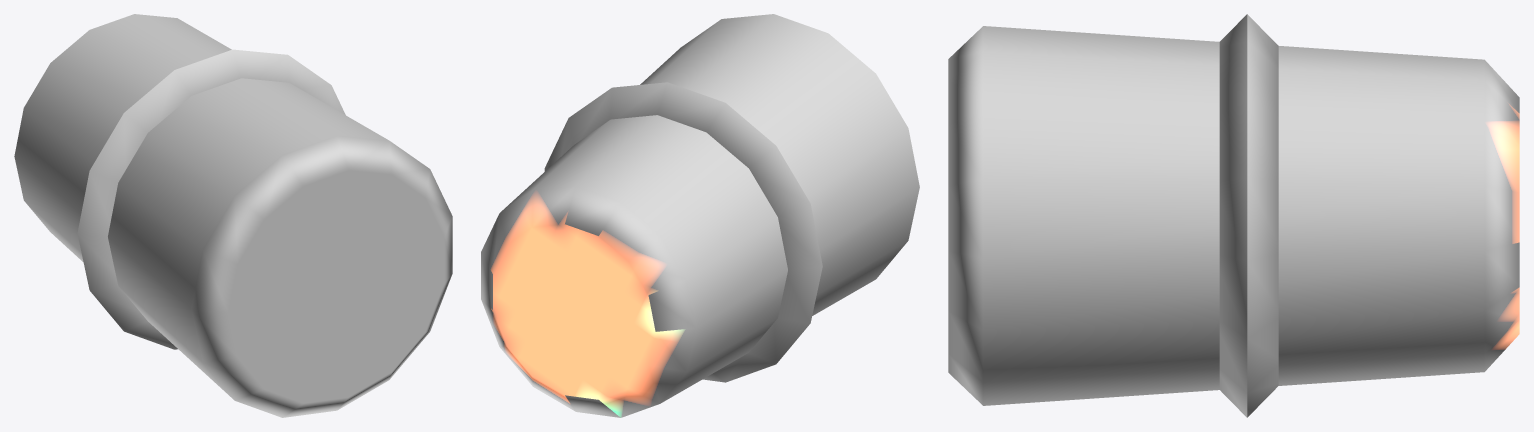
File: Engine_Turbine.fbx
The picture shows the model from 3 angles, left to right: view 1: azimuth 30°, elevation 25°; view 2: azimuth 150°, elevation 25°; view 3: azimuth 270°, elevation 25°; orthographic projection. The views are drawn at different scales.
Parts seen in each view (by area): view 1: Engine_Turbine; view 2: Engine_Turbine; view 3: Engine_Turbine.
Boxes of the visible parts, <box> form: Engine_Turbine: <box>14,14,452,417</box>; Engine_Turbine: <box>481,14,919,417</box>; Engine_Turbine: <box>948,14,1519,417</box>.
Bounding box in the file's own units: 0.457 × 0.4595 × 0.65.
